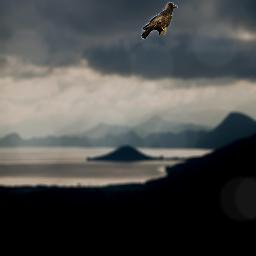Crow: (141, 1, 178, 41)
